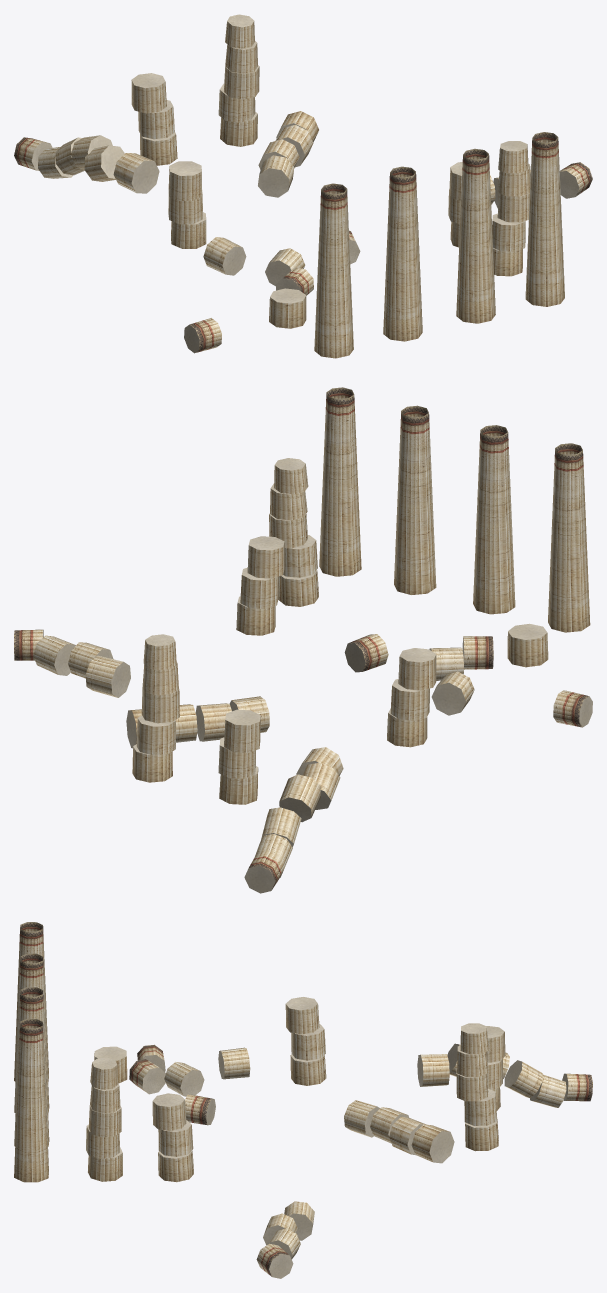
The model's file is temple_unfinished_columns_03.dae.
3 views of the same model, one above another, from view 1: azimuth 30°, elevation 25°; view 2: azimuth 150°, elevation 25°; view 3: azimuth 270°, elevation 25° (orthographic). The views are drawn at different scales.
Parts seen in each view (by area): view 1: Cylinder_03-Pivot; view 2: Cylinder_03-Pivot; view 3: Cylinder_03-Pivot.
Part boxes in pixels (x1,y1,x2,y2): Cylinder_03-Pivot: (14,14,592,358); Cylinder_03-Pivot: (14,387,592,893); Cylinder_03-Pivot: (14,922,592,1278).
Size of the model in its own units: 27.46 by 31.54 by 10.91.
